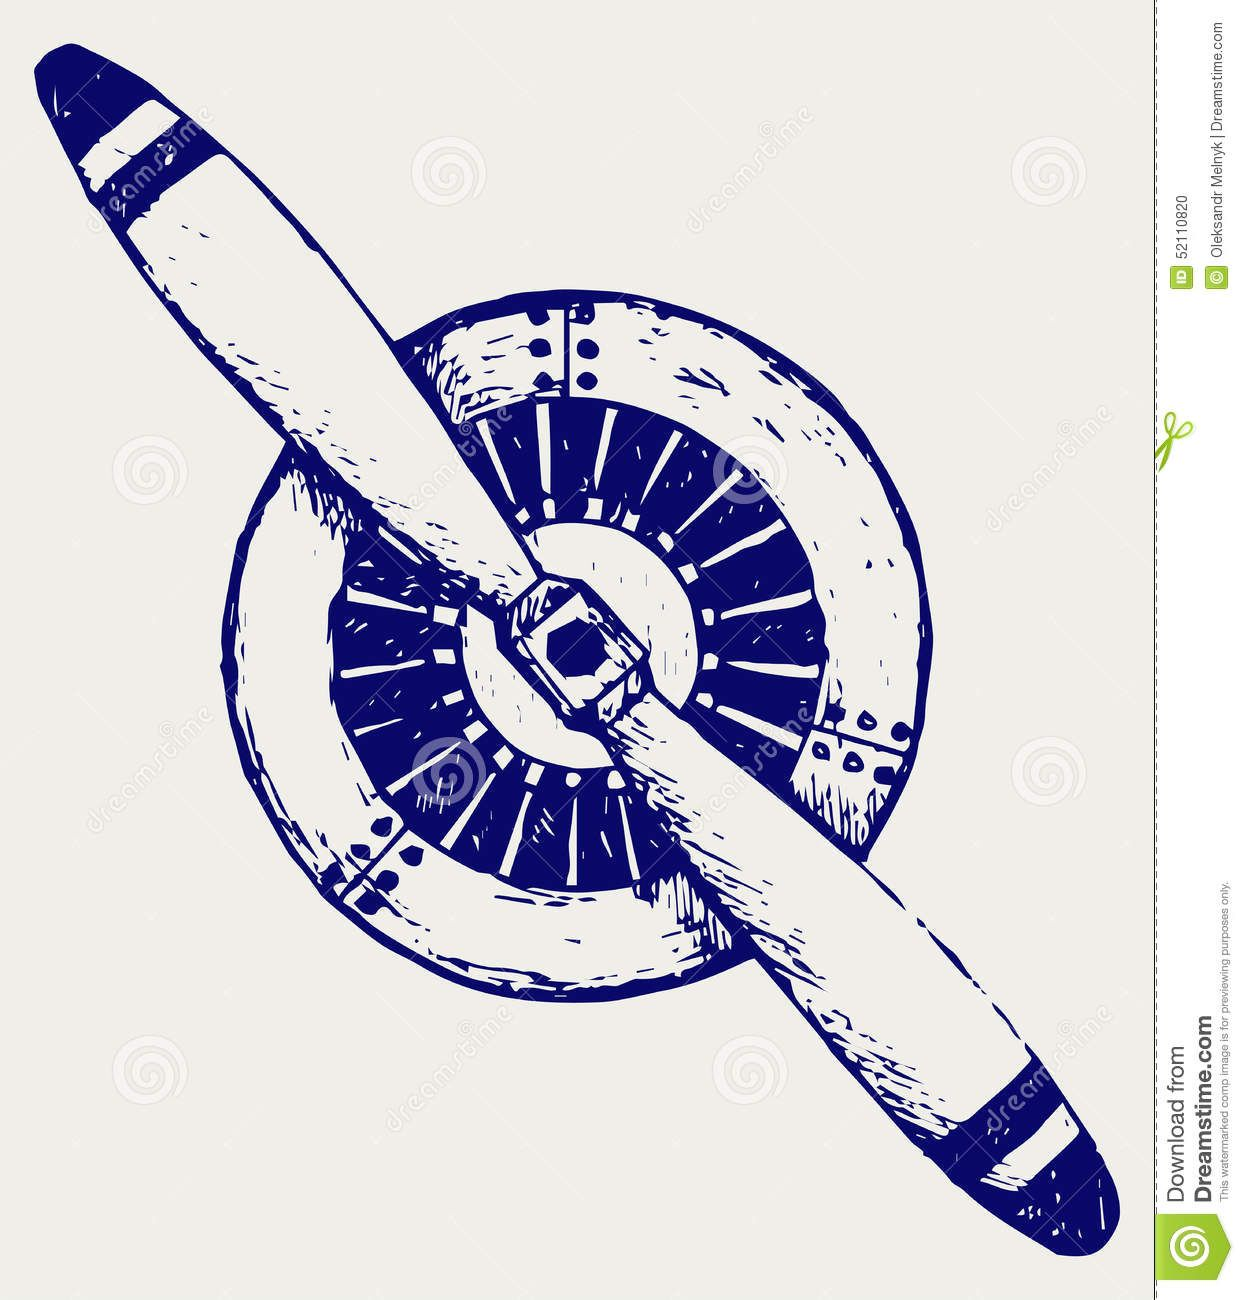Propeller: (38, 55, 1130, 1261)
